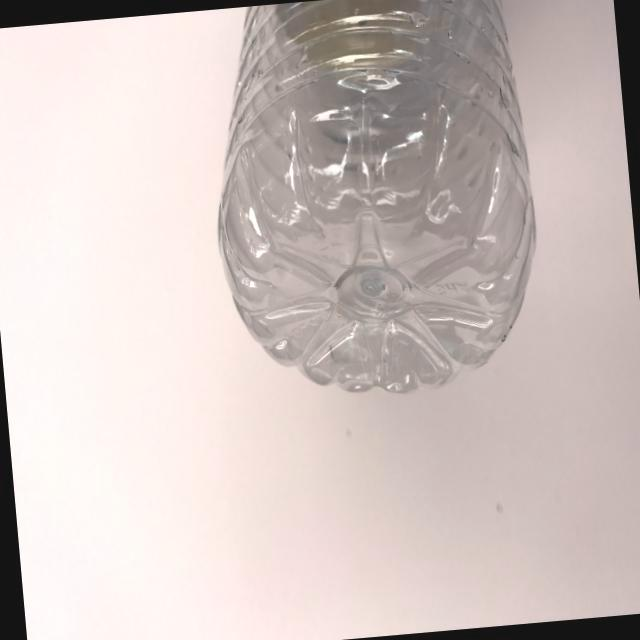plastic: (147, 0, 577, 433)
